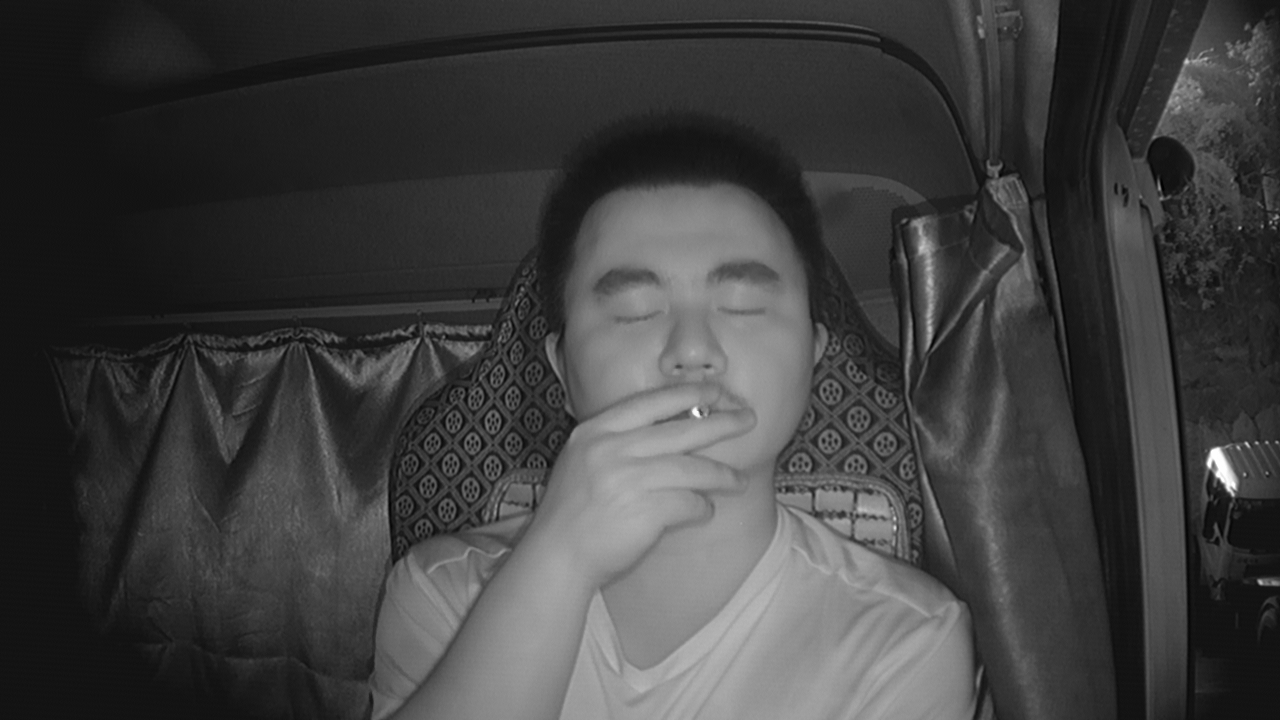hand: (598, 375, 745, 527)
